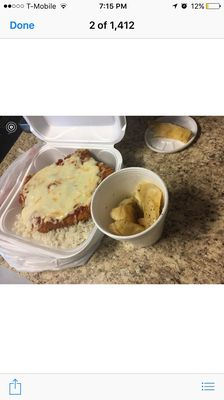sushi: (90, 167, 169, 249), (144, 117, 200, 154)
